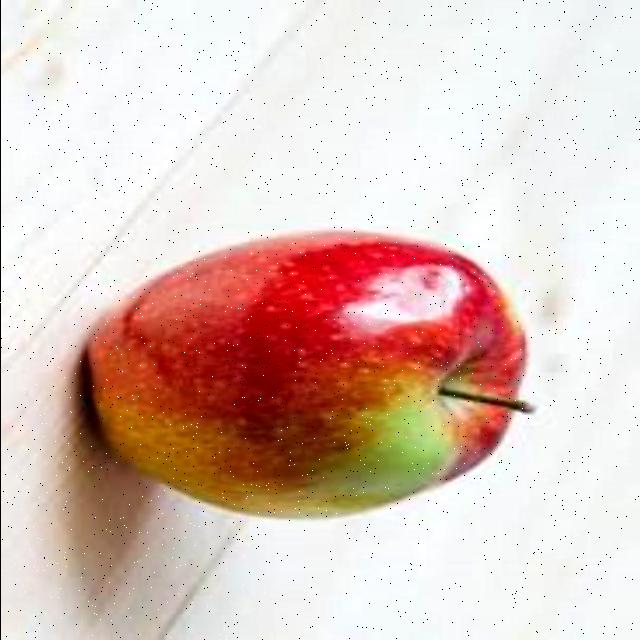HEALTHY: (53, 229, 536, 536)
